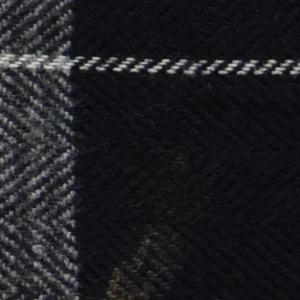Stain: (99, 226, 191, 300)
